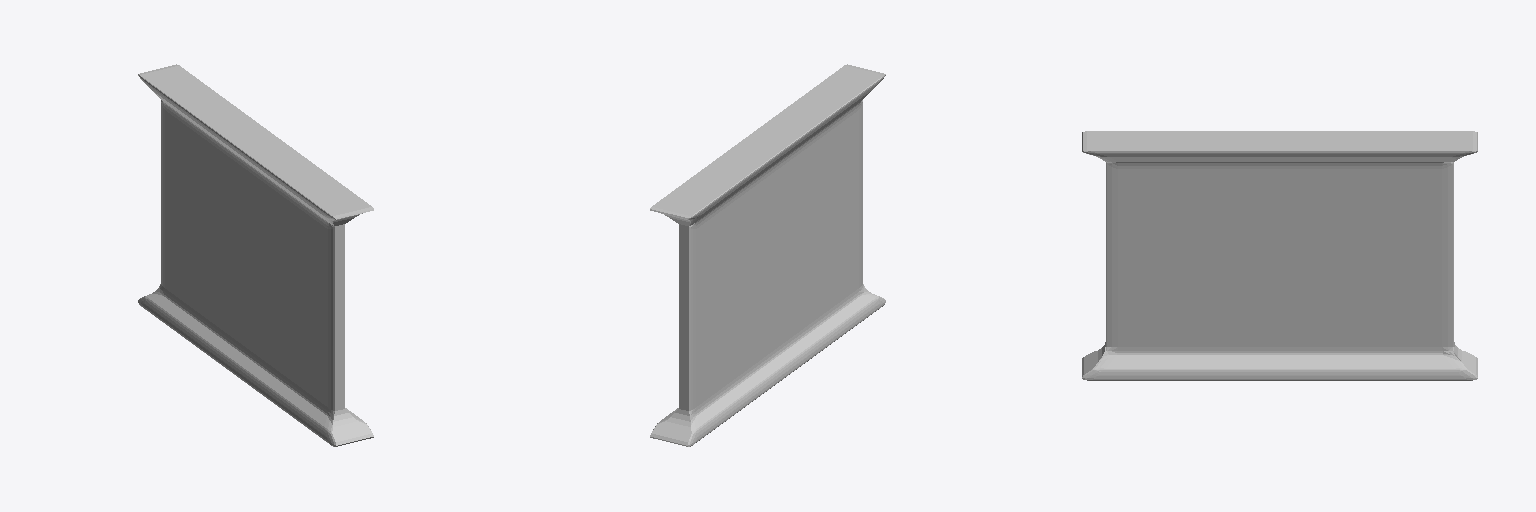
The model's file is wall.obj.
The picture shows the model from 3 angles: view 1: azimuth 30°, elevation 25°; view 2: azimuth 150°, elevation 25°; view 3: azimuth 270°, elevation 25°; orthographic projection.
Visible parts, largest first — view 1: Cube_Cube.001; view 2: Cube_Cube.001; view 3: Cube_Cube.001.
Part boxes in pixels (x1,y1,x2,y2): Cube_Cube.001: (138, 64, 373, 446); Cube_Cube.001: (650, 64, 885, 446); Cube_Cube.001: (1082, 131, 1477, 380).
Size of the model in its own units: 0.7961 by 4.28 by 6.69.